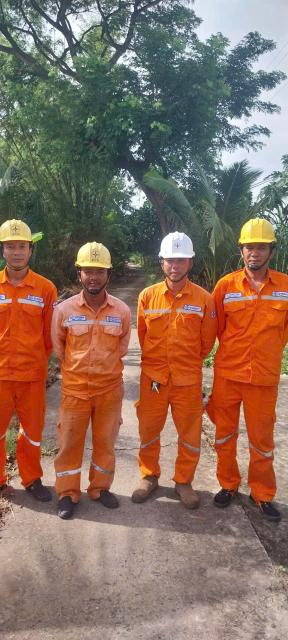helmet: (69, 234, 126, 274), (150, 228, 206, 268), (0, 210, 42, 247), (236, 215, 286, 246)
shoes: (131, 466, 161, 510), (247, 491, 286, 524), (169, 477, 204, 511), (50, 491, 81, 523), (25, 472, 53, 504), (89, 487, 124, 511), (213, 481, 241, 511)
